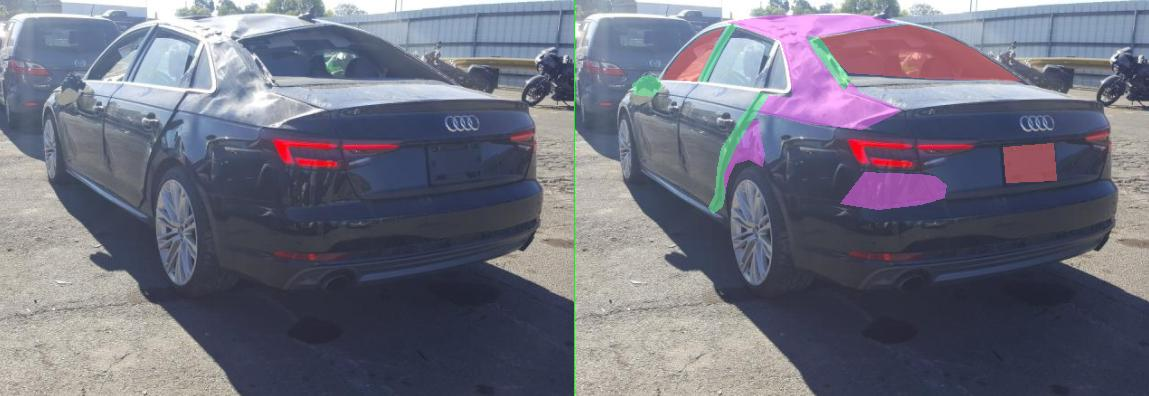Broken part: (266, 92, 386, 213), (464, 37, 552, 89), (246, 24, 324, 81), (114, 75, 174, 96)
Dent: (306, 15, 651, 129), (278, 120, 378, 208), (530, 172, 743, 209)
Missing part: (476, 25, 891, 80), (174, 28, 294, 81), (857, 143, 963, 182)
